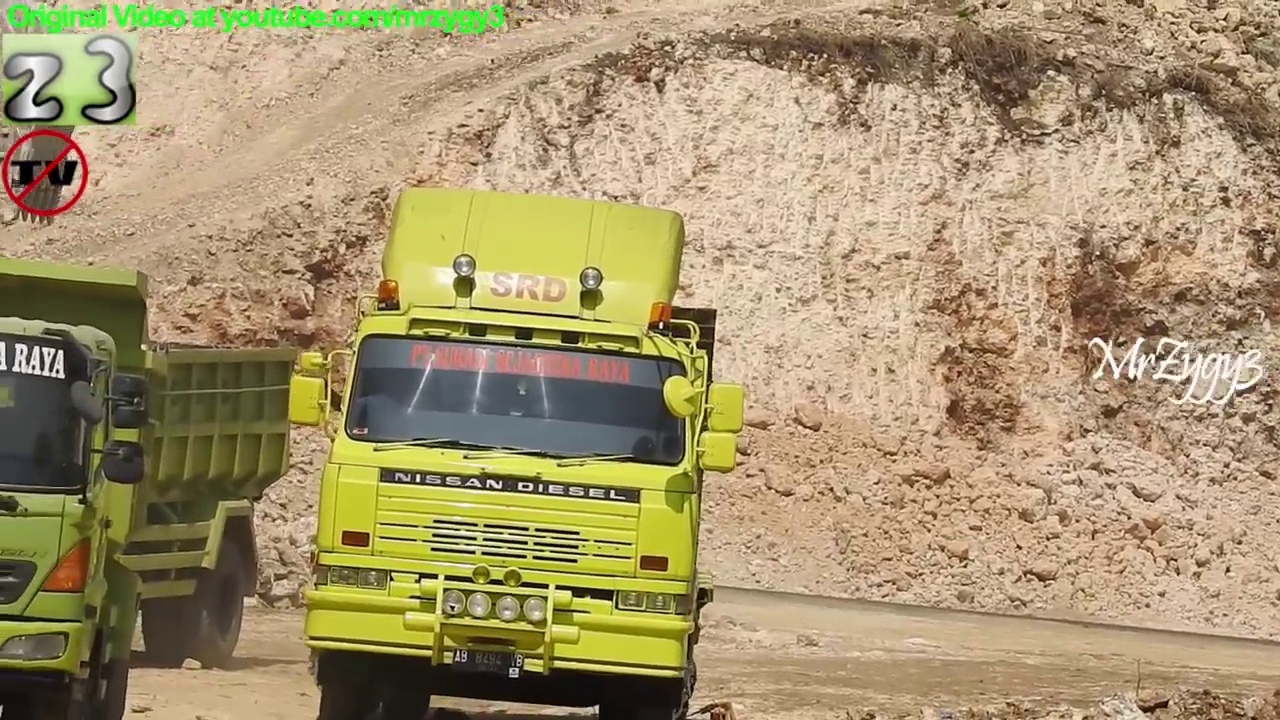truck: (284, 176, 749, 720), (1, 258, 306, 720)
